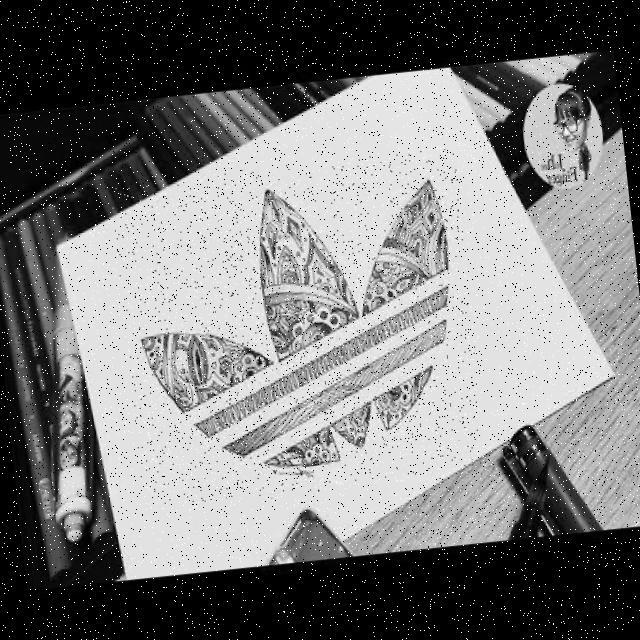Adidas: (110, 148, 488, 511)
